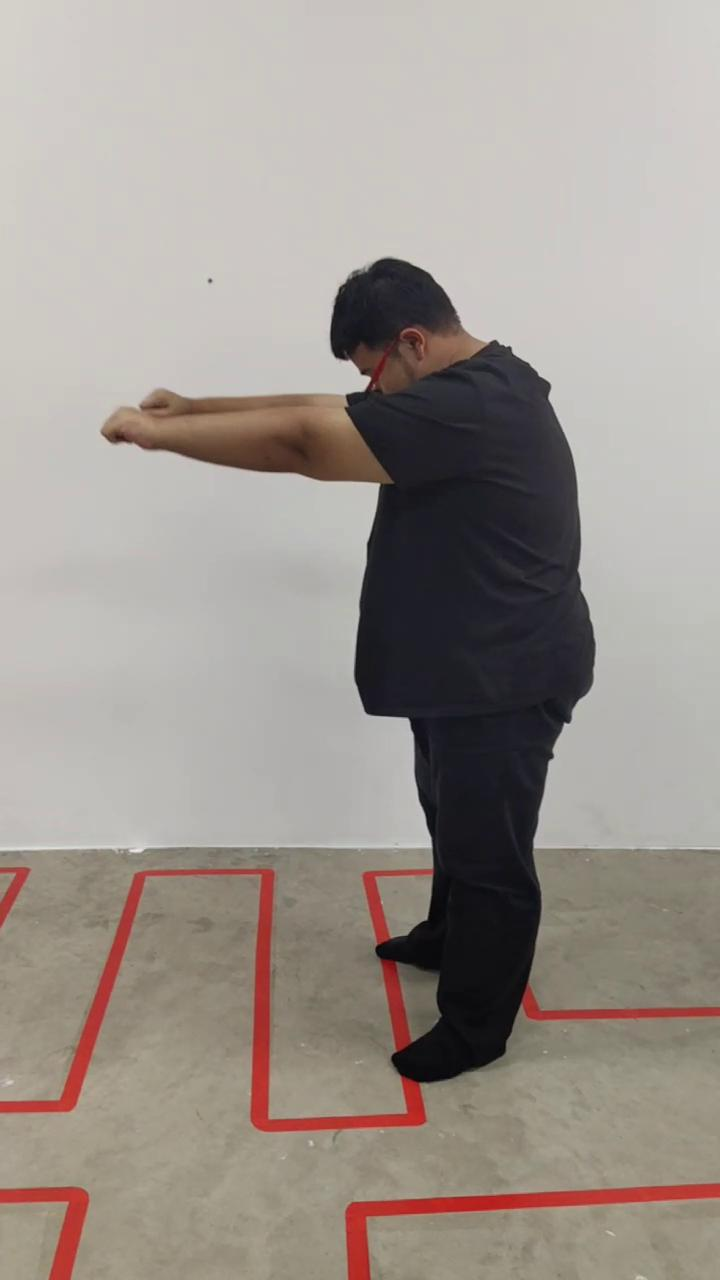squat up: (101, 254, 596, 1088)
